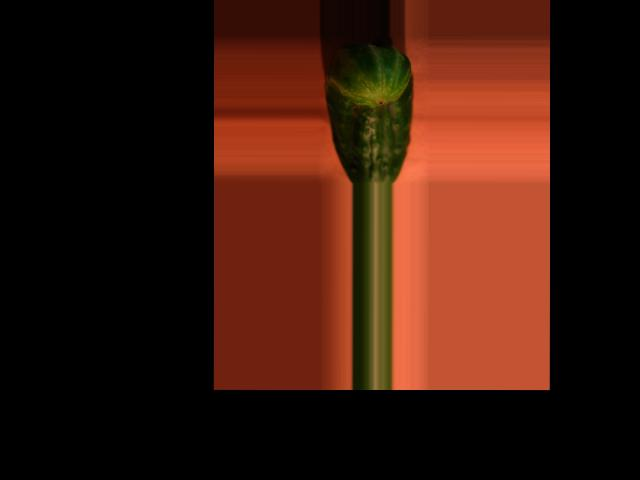cucumber: (325, 44, 413, 183)
